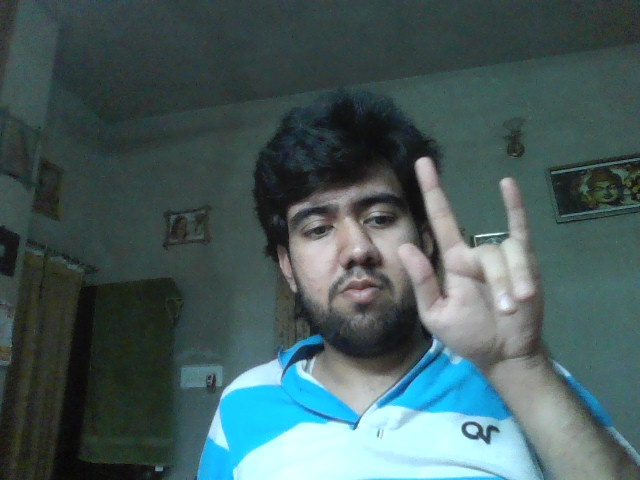ILoveYou: (398, 156, 542, 359)
